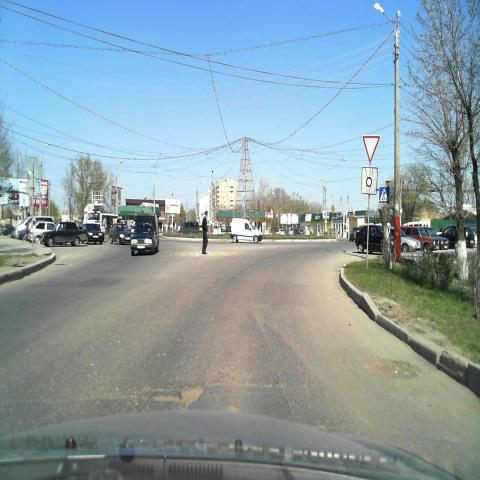8_13_1: (361, 167, 378, 193)
